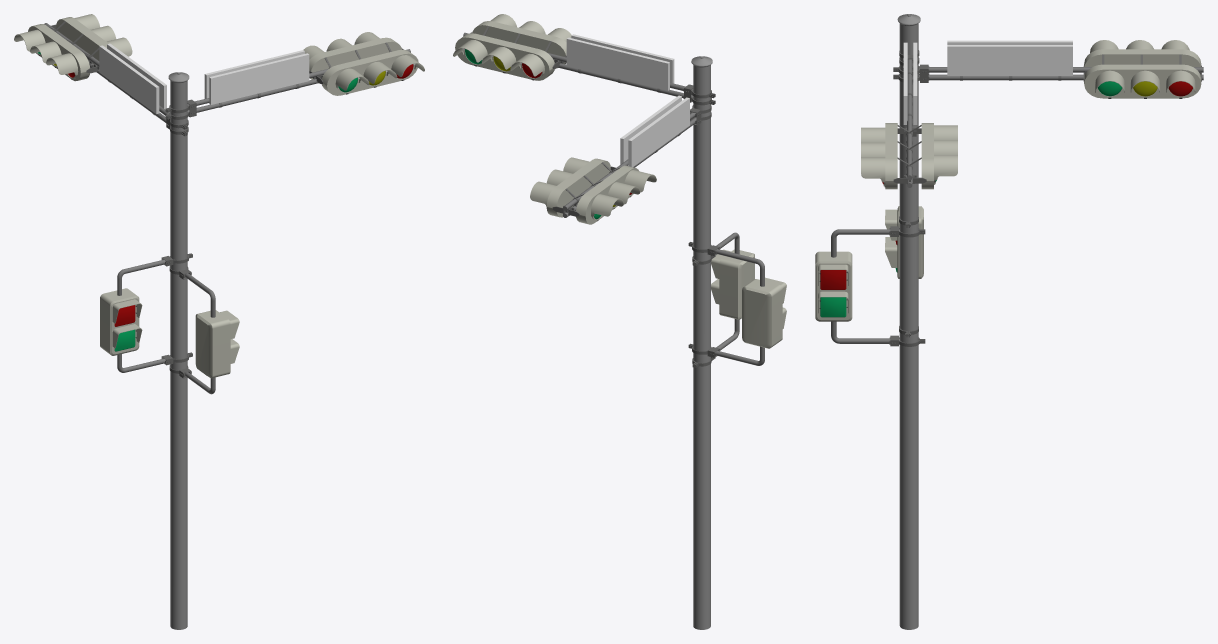
Rendered from singouki_high.fbx.
3 views of the same model, side by side, from view 1: azimuth 30°, elevation 25°; view 2: azimuth 150°, elevation 25°; view 3: azimuth 270°, elevation 25° (orthographic). The views are drawn at different scales.
Visible parts, largest first — view 1: Pole, Car_0, Car_1, Walks_1, Walks_0; view 2: Pole, Car_0, Car_1, Walks_1, Walks_0; view 3: Car_1, Pole, Car_0, Walks_0, Walks_1.
Boxes of the visible parts, x1=… form: Pole: x1=168, y1=72, x2=189, y2=629; Car_0: x1=165, y1=32, x2=424, y2=119; Car_1: x1=14, y1=14, x2=188, y2=136; Walks_1: x1=100, y1=253, x2=192, y2=372; Walks_0: x1=169, y1=266, x2=239, y2=394; Pole: x1=691, y1=56, x2=712, y2=629; Car_0: x1=453, y1=14, x2=715, y2=105; Car_1: x1=530, y1=95, x2=711, y2=224; Walks_1: x1=688, y1=242, x2=786, y2=365; Walks_0: x1=692, y1=232, x2=754, y2=367; Car_1: x1=893, y1=40, x2=1203, y2=98; Pole: x1=897, y1=14, x2=920, y2=629; Car_0: x1=861, y1=42, x2=957, y2=189; Walks_0: x1=815, y1=226, x2=925, y2=346; Walks_1: x1=885, y1=206, x2=923, y2=337.
Size of the model in its own units: 408 by 709 by 408.
